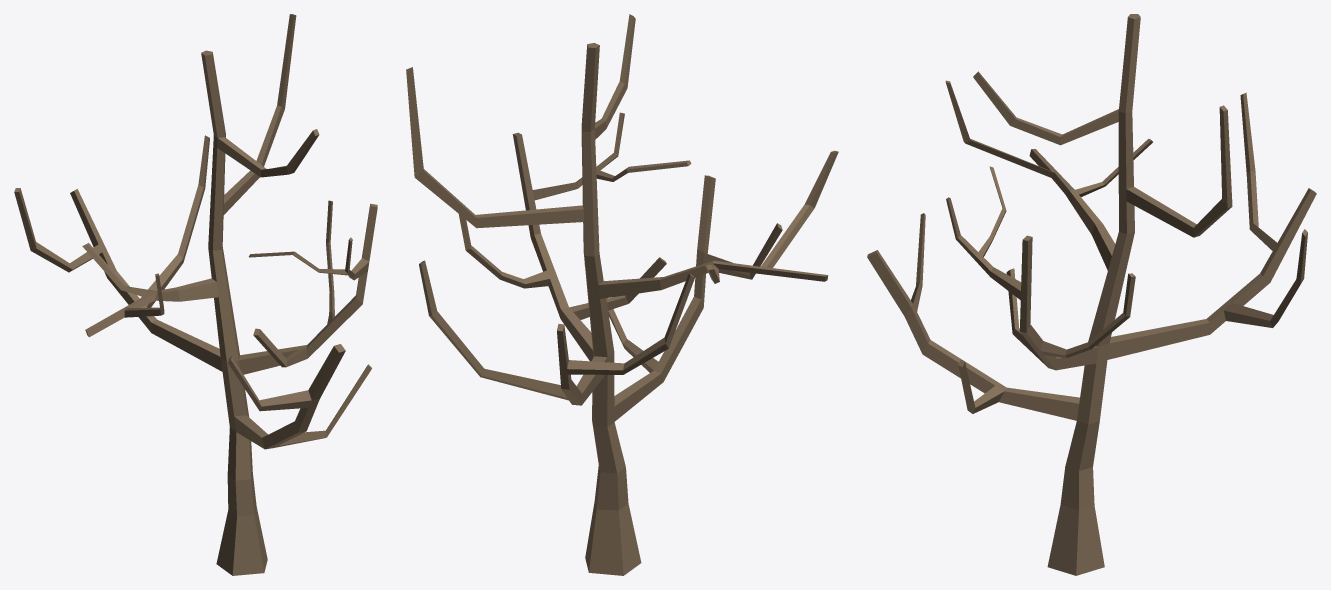
The model's file is tree_bare_b_2.FBX.
3 renders of one model, left to right at view 1: azimuth 30°, elevation 25°; view 2: azimuth 150°, elevation 25°; view 3: azimuth 270°, elevation 25°, orthographic. The views are drawn at different scales.
Parts seen in each view (by area): view 1: tree_bare_b_2; view 2: tree_bare_b_2; view 3: tree_bare_b_2.
Part boxes in pixels (x1,y1,x2,y2): tree_bare_b_2: (14, 14, 377, 575); tree_bare_b_2: (406, 14, 838, 575); tree_bare_b_2: (867, 14, 1316, 575).
Size of the model in its own units: 3.2 by 5.1 by 3.84.
